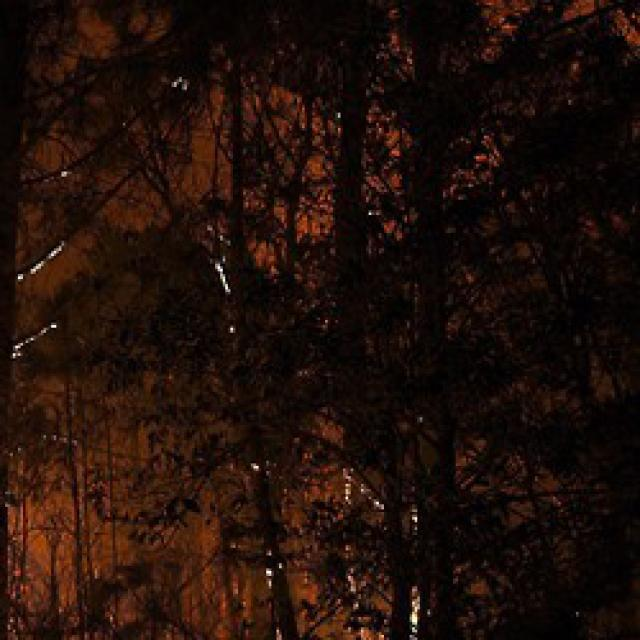Fire: (307, 463, 438, 640), (0, 308, 86, 392), (0, 210, 76, 290), (214, 236, 268, 322), (255, 528, 296, 640), (324, 97, 354, 172), (165, 60, 198, 116), (227, 435, 270, 467), (56, 160, 90, 200), (356, 180, 384, 224)
Smoke: (0, 452, 130, 640)
